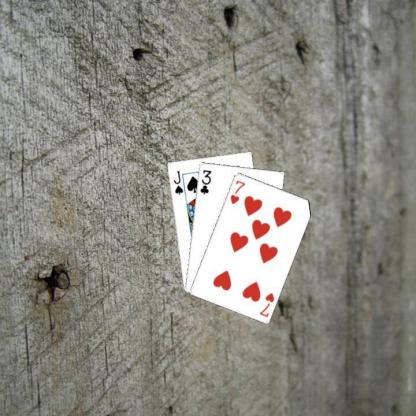3C: (197, 167, 213, 195)
7H: (228, 177, 246, 205), (257, 290, 275, 318)
JS: (170, 168, 184, 196)
